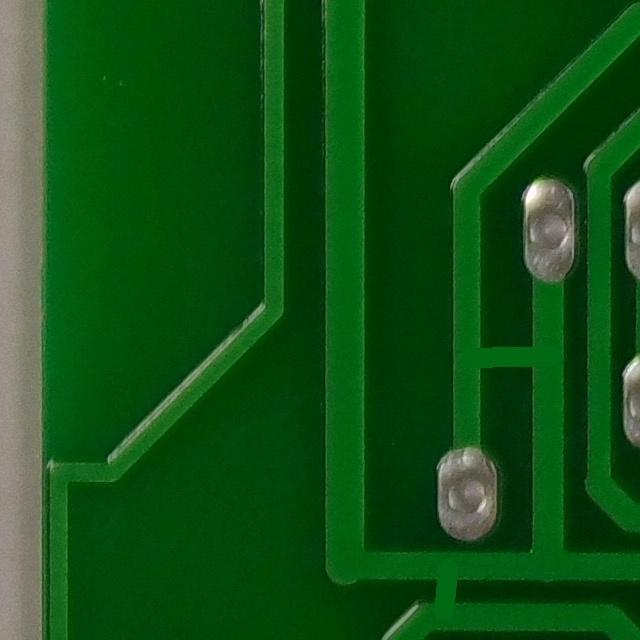short: (434, 318, 575, 395), (401, 534, 486, 633)
